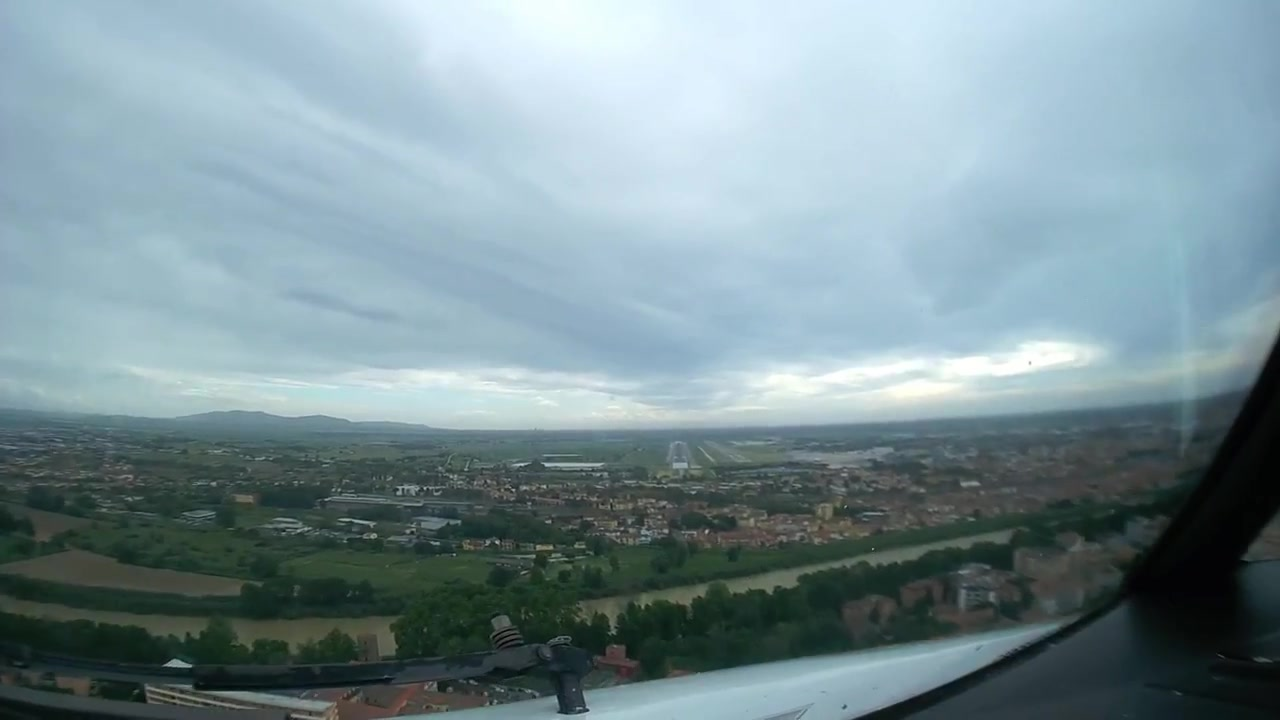runway: (667, 441, 692, 467)
